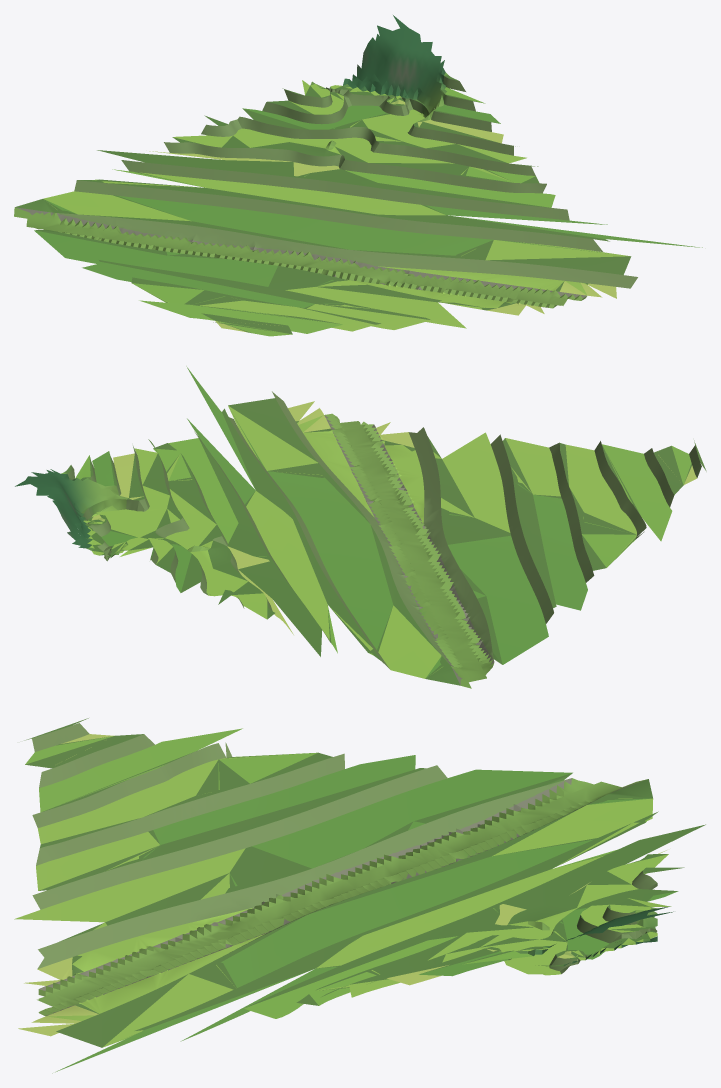
Rendered from payo_land_xm4_y7.glb.
The picture shows the model from 3 angles, top to bottom: view 1: azimuth 30°, elevation 25°; view 2: azimuth 150°, elevation 25°; view 3: azimuth 270°, elevation 25°; orthographic projection. The views are drawn at different scales.
Visible parts, largest first — view 1: payo_land_xm4_y7; view 2: payo_land_xm4_y7; view 3: payo_land_xm4_y7.
Boxes of the visible parts, <box> form: payo_land_xm4_y7: <box>14,15,702,336</box>; payo_land_xm4_y7: <box>15,366,706,688</box>; payo_land_xm4_y7: <box>14,718,705,1073</box>.
Size of the model in its own units: 319 by 62.37 by 289.
